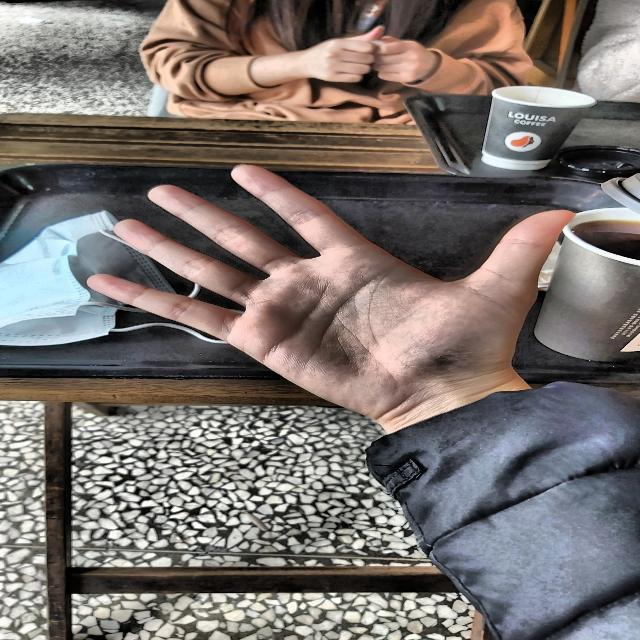not-gloved: (69, 148, 596, 461)
